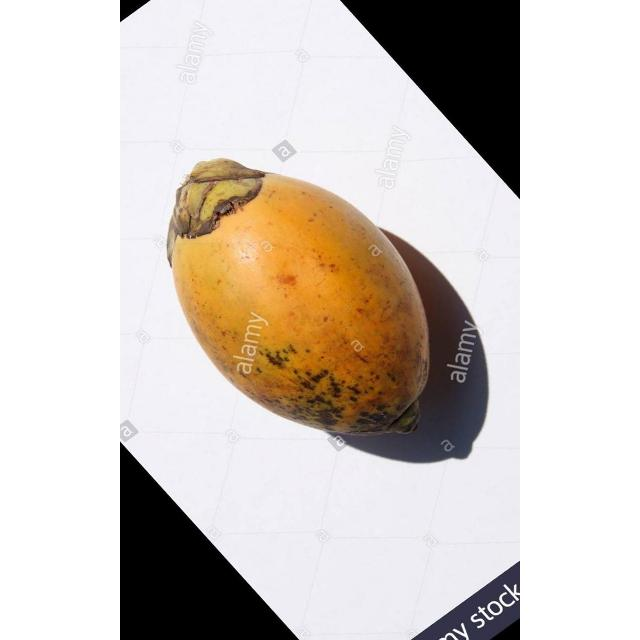good: (169, 161, 431, 440)
